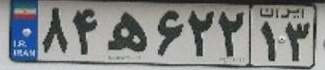character: (101, 6, 151, 56), (152, 8, 186, 61), (217, 7, 247, 65), (39, 5, 70, 58), (186, 8, 215, 63), (70, 5, 100, 58), (284, 19, 311, 64), (258, 19, 278, 62)
